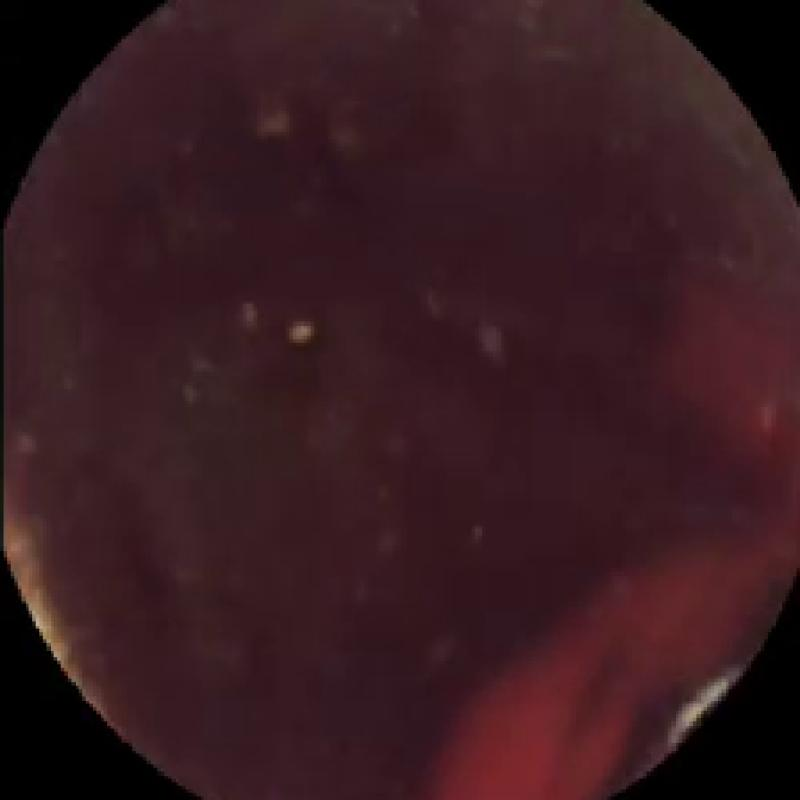bleeding: (446, 300, 800, 796)
